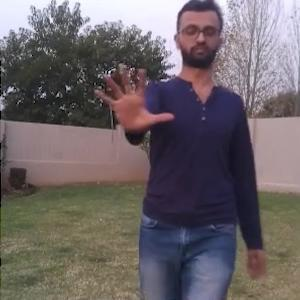follow_hand: (92, 58, 175, 132)
